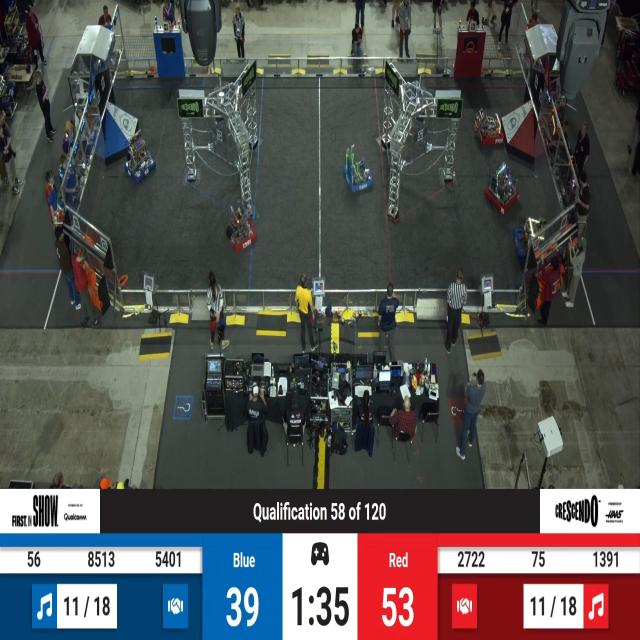Robot: (226, 179, 259, 255), (514, 213, 551, 271), (123, 121, 155, 188), (484, 158, 520, 216), (343, 144, 373, 197), (474, 105, 506, 149)
